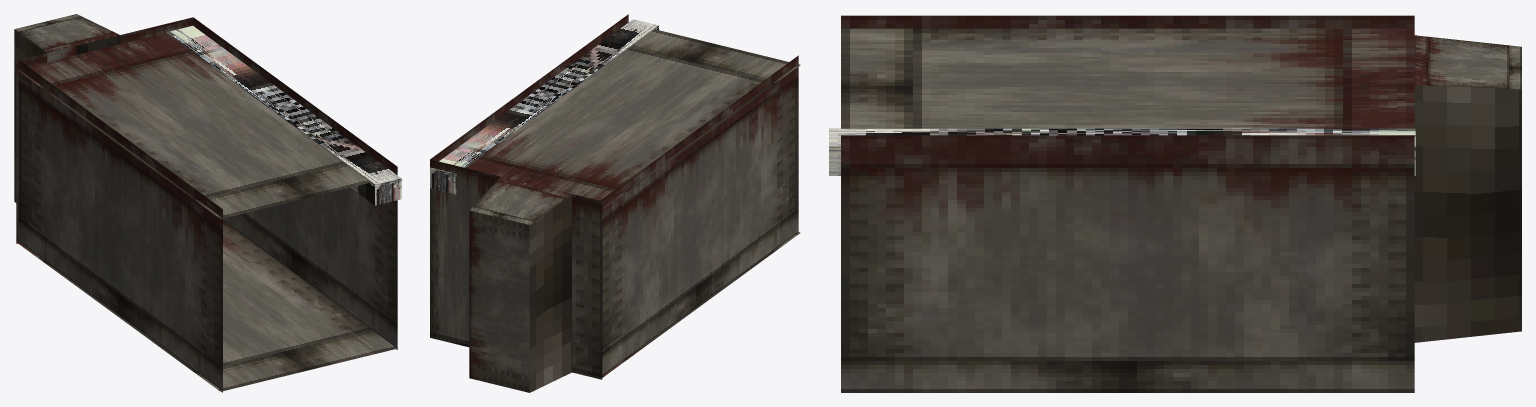
File: bunker.glb
3 renders of one model, left to right at view 1: azimuth 30°, elevation 25°; view 2: azimuth 150°, elevation 25°; view 3: azimuth 270°, elevation 25°, orthographic. The views are drawn at different scales.
Parts seen in each view (by area): view 1: bunker; view 2: bunker; view 3: bunker.
Part boxes in pixels (box(x1,y1,x2,y2)): bunker: box(14, 14, 401, 392); bunker: box(430, 14, 800, 392); bunker: box(829, 15, 1521, 392).
Bounding box in the file's own units: 13.38 × 13.25 × 32.29.
Materials: 2 (2 with a texture image).
